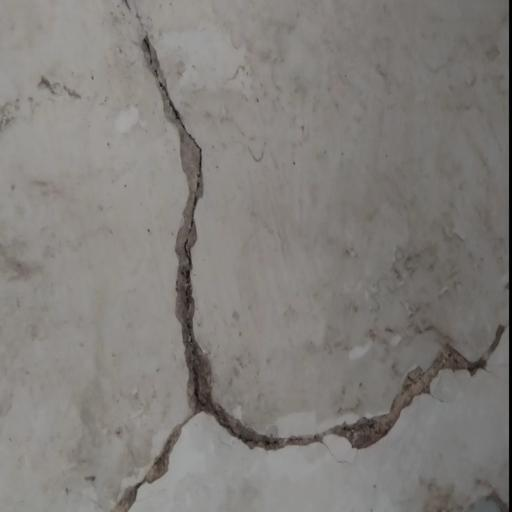major_crack: (112, 0, 507, 512)
